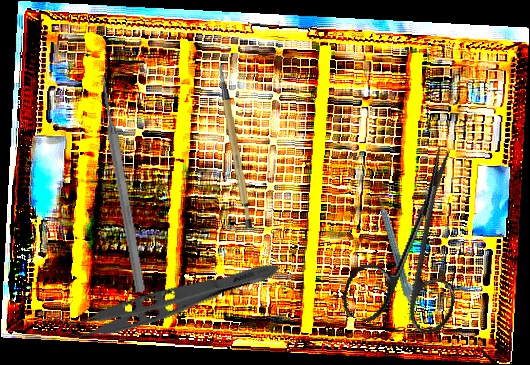Handpiece: (375, 192, 419, 305)
Iris Scissors: (338, 131, 495, 344)
Pusher: (95, 73, 149, 294)
Scalpel Handle: (217, 62, 256, 230)
Tissue Forceps: (54, 242, 282, 354)
